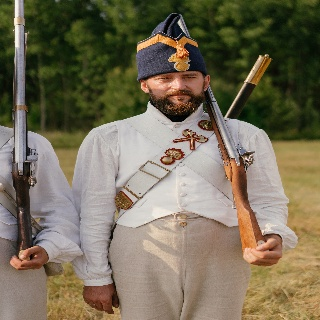rifle: (173, 12, 270, 257), (6, 1, 41, 265)
